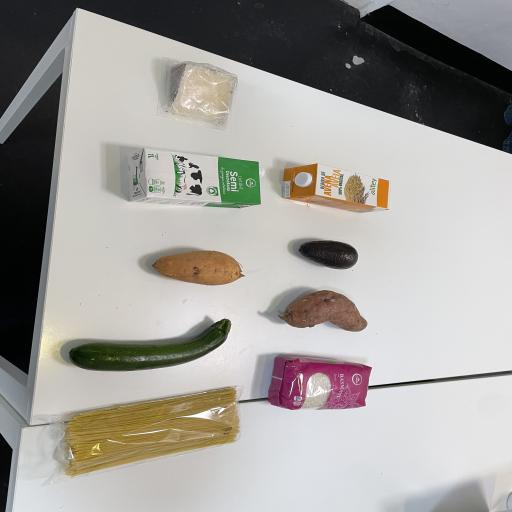avocado: (292, 237, 372, 275)
courgette: (65, 313, 240, 375)
cured_goat_cheese: (161, 59, 246, 130)
milk: (117, 147, 265, 216)
oat_milk: (276, 166, 403, 212)
rice: (259, 352, 380, 412)
spaghetti: (55, 382, 244, 481)
sweet_potato: (266, 288, 386, 336), (142, 245, 247, 292)
